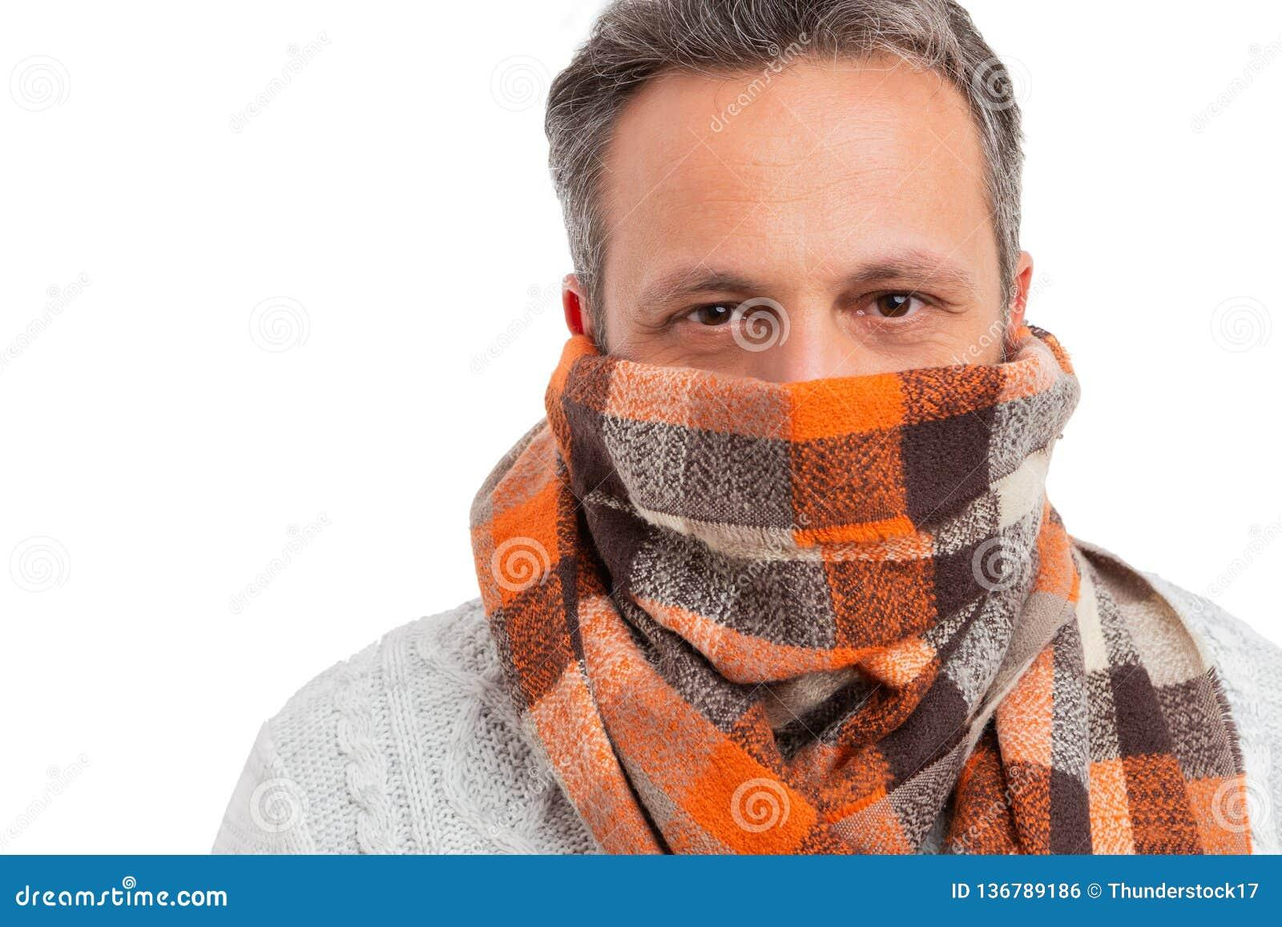scarf-kerchief: (513, 302, 1178, 839)
